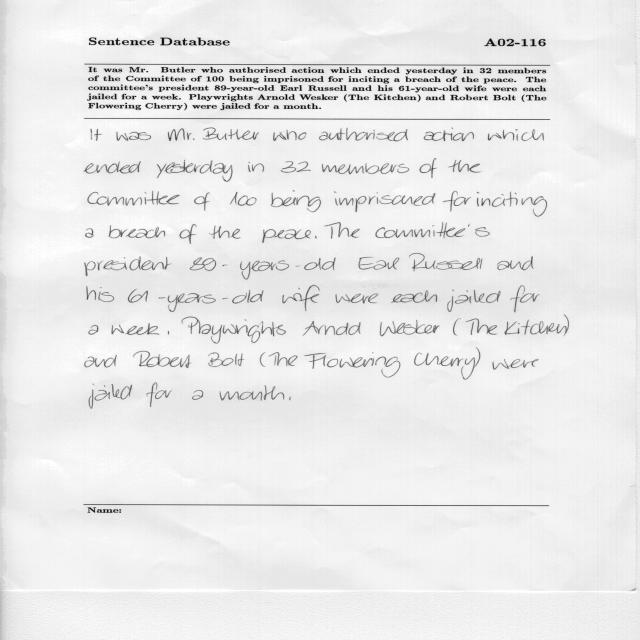word: (190, 257, 336, 280), (128, 289, 264, 312), (181, 317, 286, 344), (304, 352, 400, 378), (414, 348, 481, 380), (334, 192, 436, 213), (477, 192, 547, 217), (85, 257, 172, 277), (375, 223, 490, 238), (157, 160, 233, 182), (88, 191, 180, 206), (409, 254, 483, 272), (447, 290, 501, 312), (319, 128, 408, 141), (89, 384, 132, 409), (271, 191, 321, 212), (220, 385, 284, 401), (134, 351, 192, 368), (283, 285, 320, 311), (380, 320, 440, 336), (322, 164, 409, 175), (510, 286, 540, 313), (303, 321, 360, 335), (262, 229, 311, 243), (84, 161, 141, 173), (109, 226, 166, 238), (203, 128, 259, 140), (488, 129, 544, 141), (424, 128, 474, 141), (505, 320, 548, 335), (146, 383, 172, 407), (442, 191, 471, 212), (391, 290, 437, 303), (325, 222, 360, 239), (112, 323, 160, 335), (359, 257, 400, 270), (497, 256, 534, 270), (466, 319, 498, 335), (208, 353, 244, 367), (548, 315, 569, 336), (87, 286, 114, 302), (336, 294, 379, 304), (448, 160, 481, 173), (268, 352, 298, 366), (209, 226, 240, 239), (85, 355, 117, 367), (230, 192, 257, 206), (273, 130, 307, 141), (281, 161, 311, 173), (419, 158, 437, 178), (180, 224, 197, 244), (168, 128, 194, 141), (116, 132, 151, 141), (194, 192, 210, 211), (509, 359, 539, 368), (492, 359, 509, 370), (248, 162, 264, 172), (453, 319, 461, 336), (91, 129, 102, 141), (192, 390, 204, 400), (89, 325, 98, 335), (260, 352, 265, 367), (86, 229, 94, 238), (315, 236, 317, 239), (289, 397, 291, 400), (168, 331, 169, 335)
